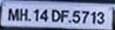character: (7, 8, 19, 21), (71, 10, 80, 24), (39, 9, 48, 22), (51, 9, 60, 22), (19, 8, 27, 21), (60, 9, 68, 22), (81, 10, 89, 23), (96, 11, 104, 24), (33, 8, 39, 22), (90, 11, 96, 24)
